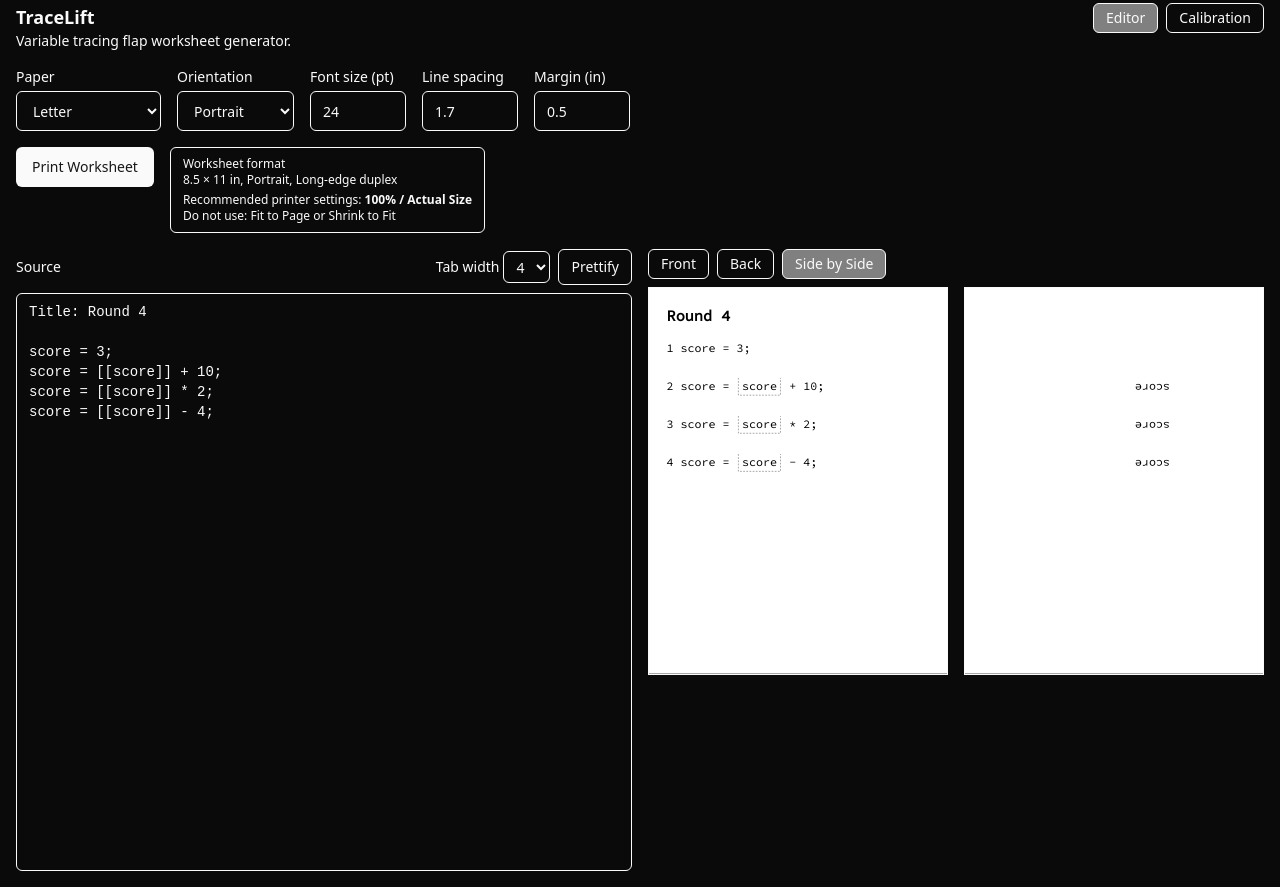
Test case: App › switches to the calibration page and shows its five sample flaps
Click the button "calibration": click(1215, 18) [1166, 3, 1264, 33]
(page scrolled)
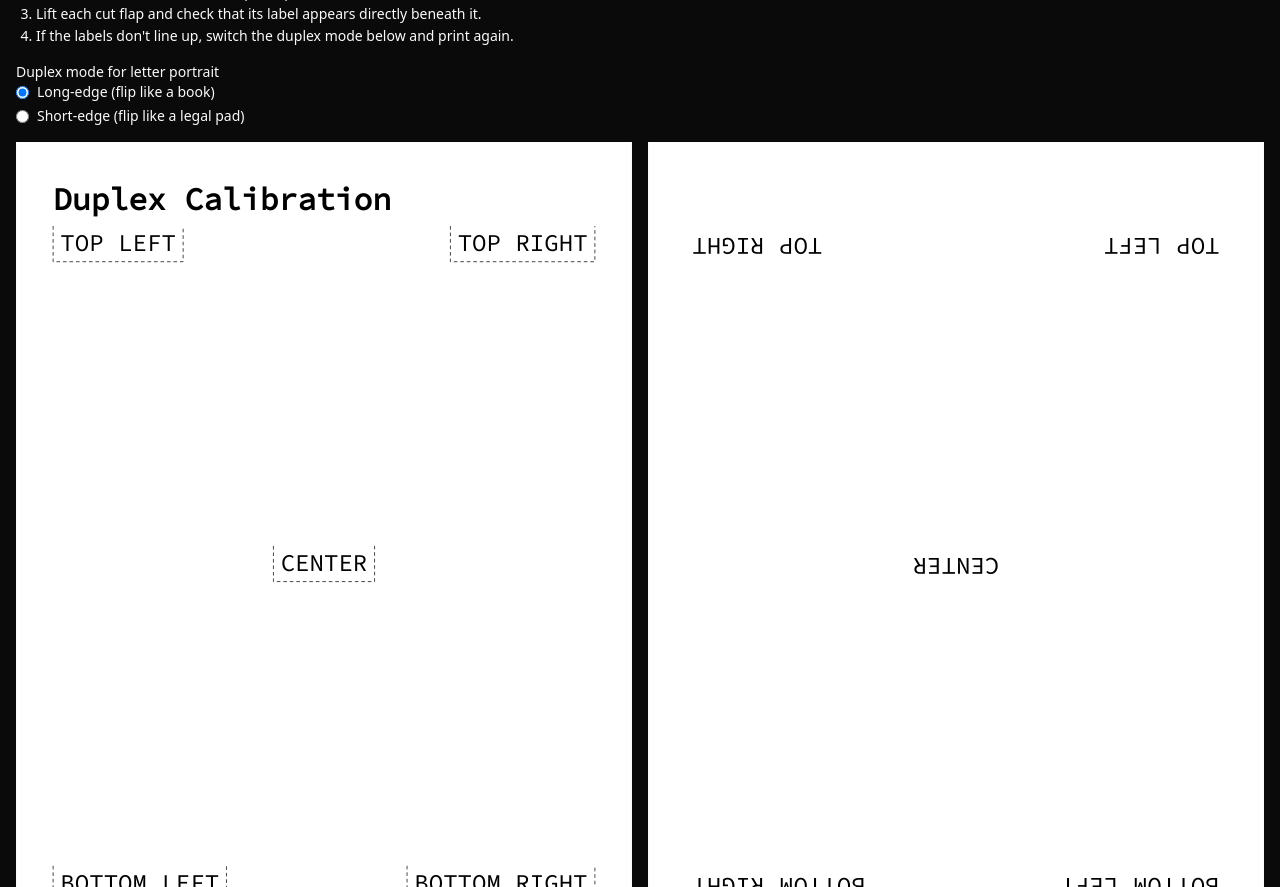
Expected: the element with id "tracelift-calibration" shows "Duplex Calibration", [53, 179, 391, 219]
Expected: the element with id "tracelift-calibration" shows "TOP LEFT", [60, 227, 176, 258]
Expected: the element with id "tracelift-calibration" shows "CENTER", [281, 547, 367, 578]
